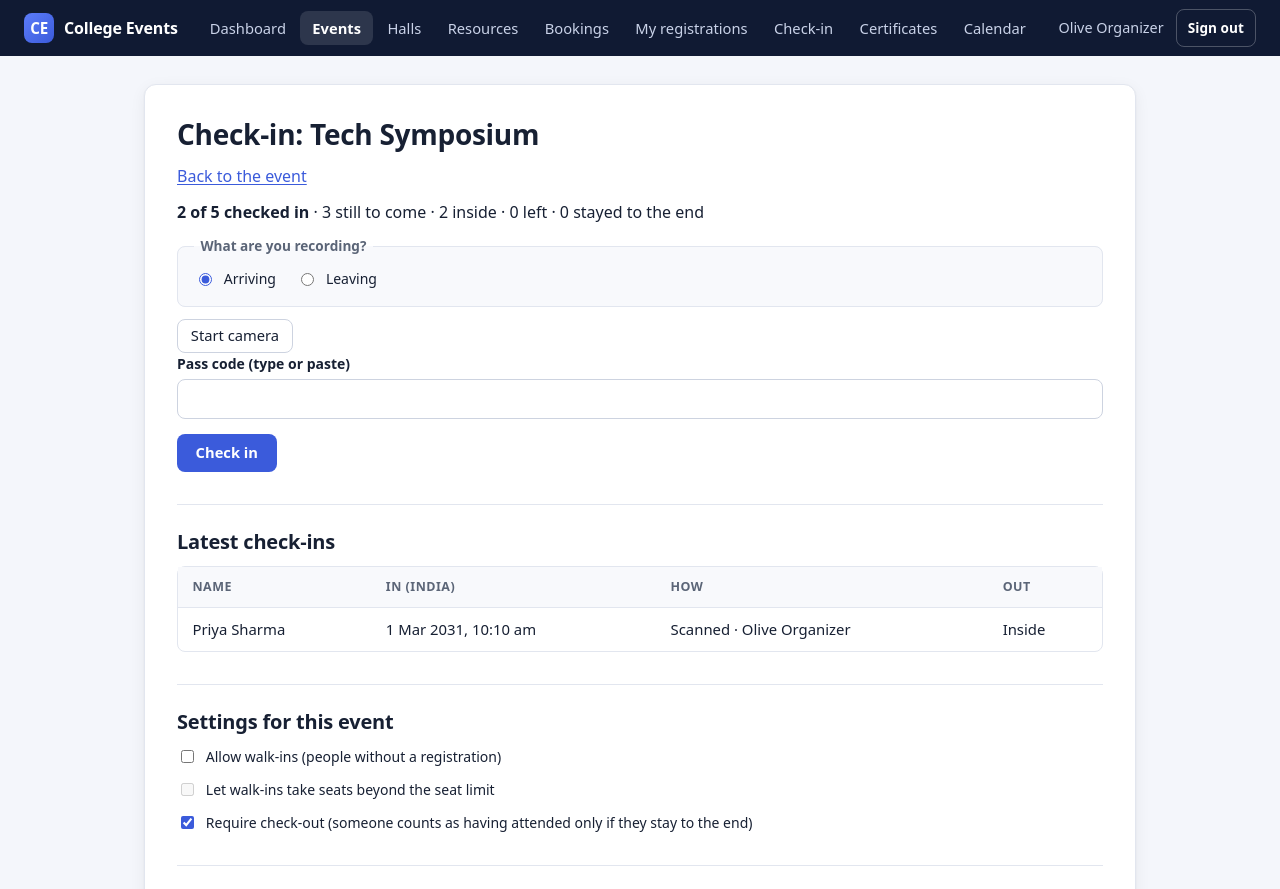
Test: the gate screen › checks a typed or pasted code in and shows who it was
This screenshot has width=1280, height=889.
Type "  EQ1.some.code " into the field labelled "Pass code (type or paste)" at (640, 399), box [177,379,1103,420]
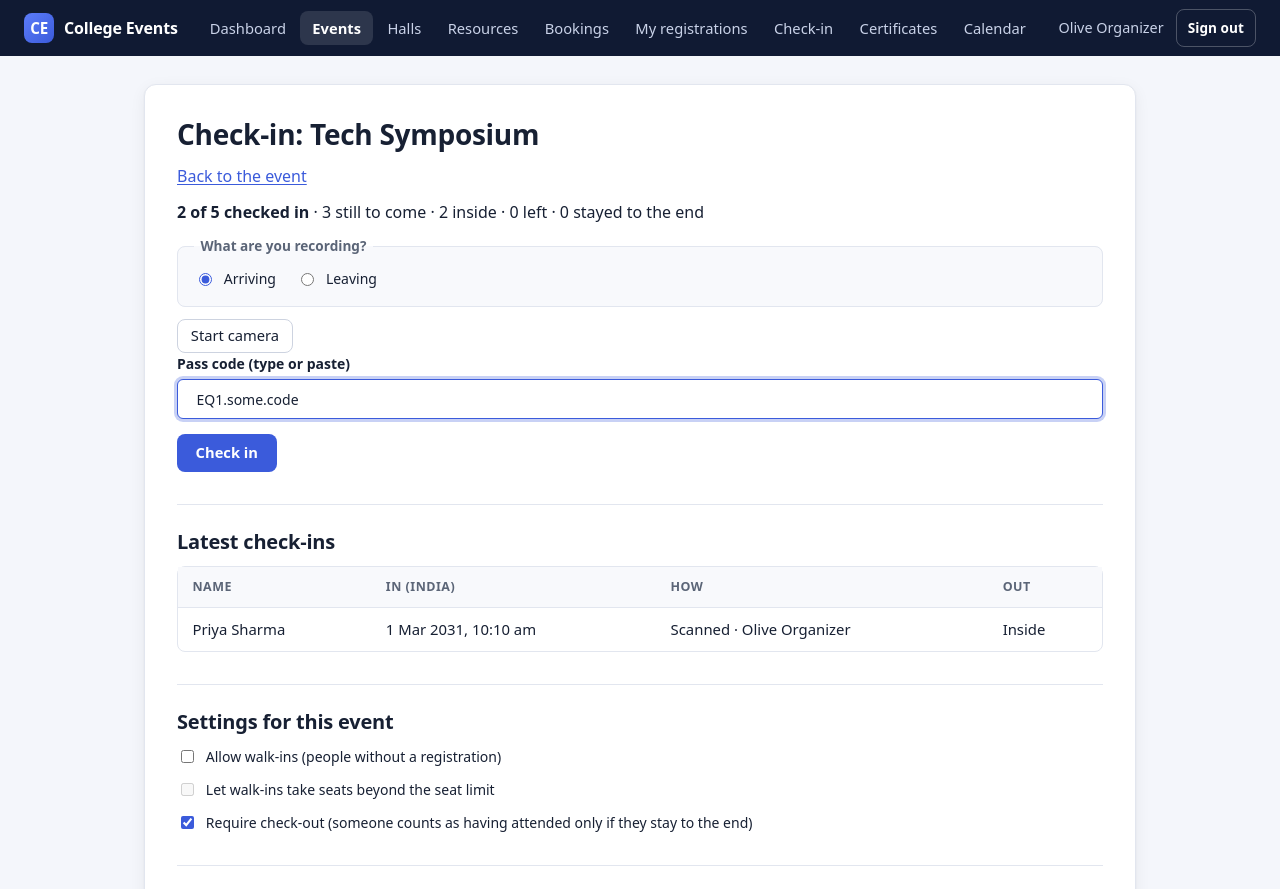
Click the button "Check in" at (227, 453), box [177,434,277,472]
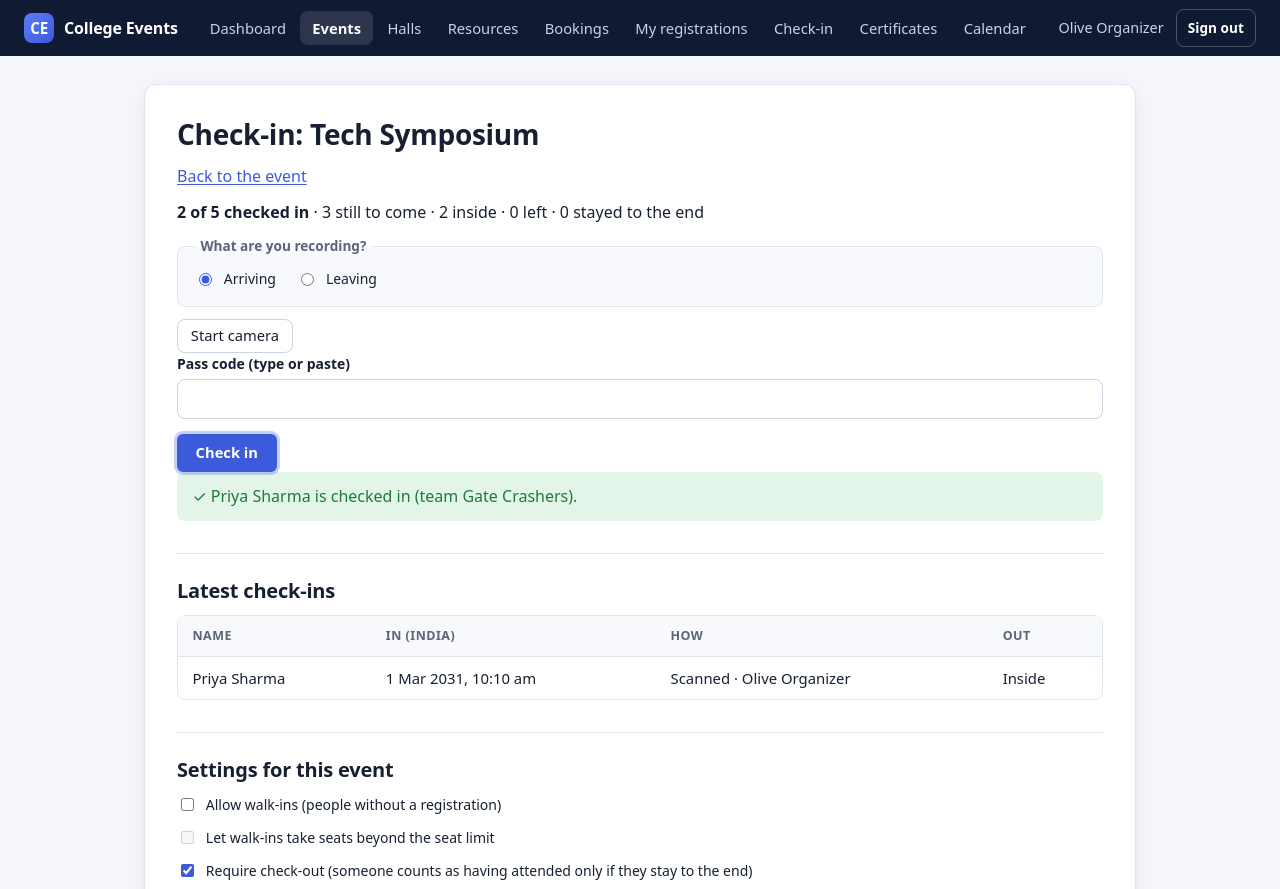
Expected: the message shows "Priya Sharma is checked in (team Gate Crashers).", [211,485,577,507]
Expected: the field labelled "Pass code (type or paste)" is empty, [177,379,1103,420]
